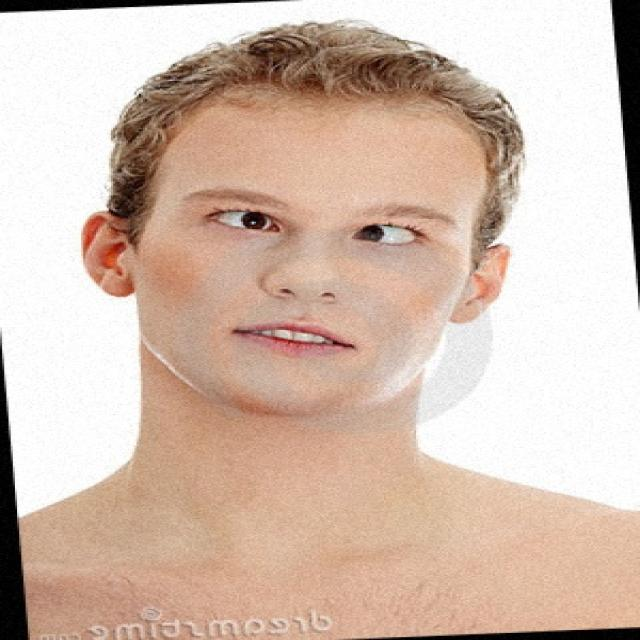Squint: (350, 194, 446, 260), (192, 191, 284, 242)
